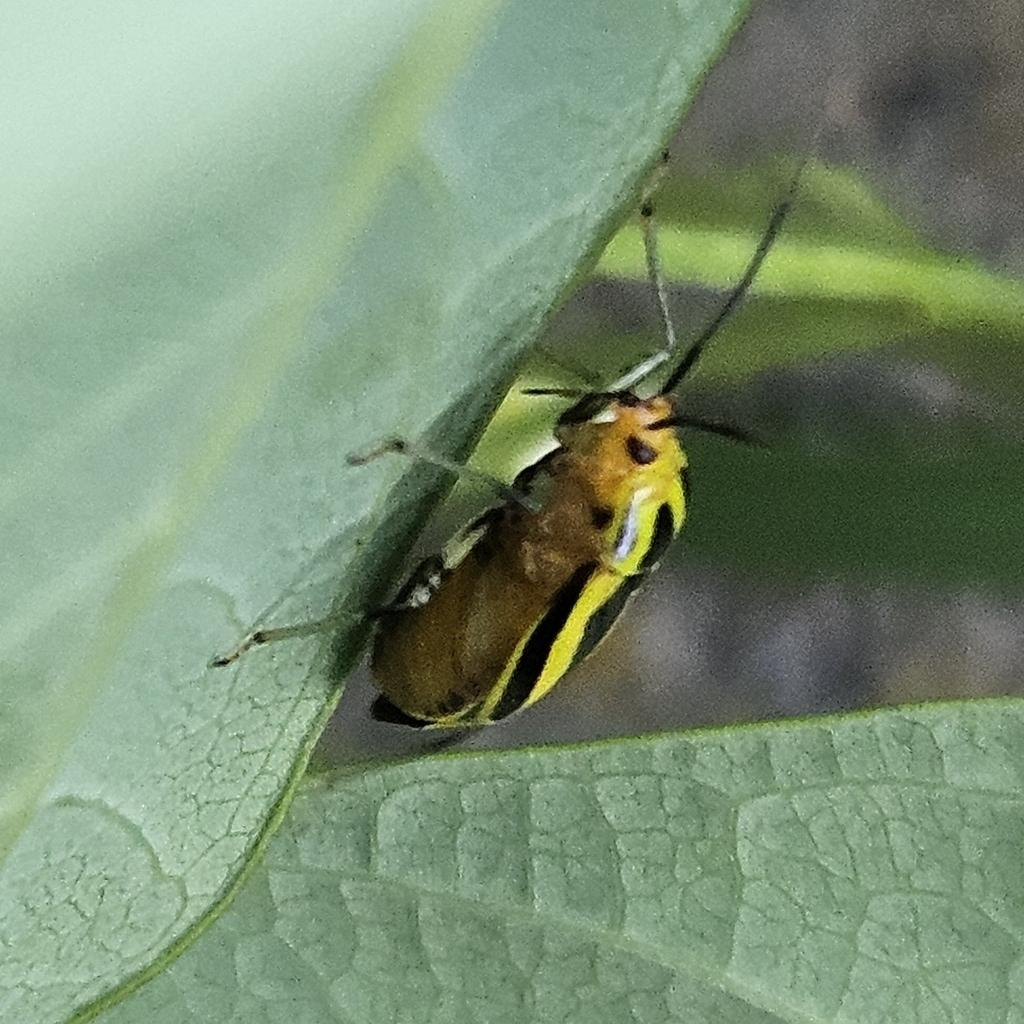plant_bugs: (110, 59, 974, 913)
